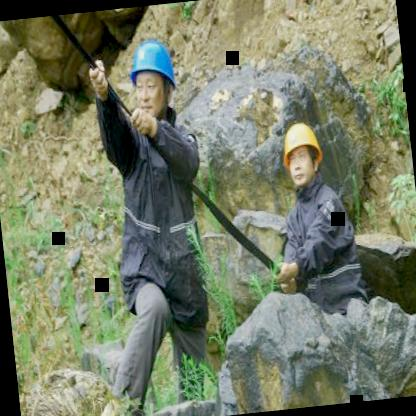helmet: (119, 29, 186, 128), (274, 113, 330, 192)
